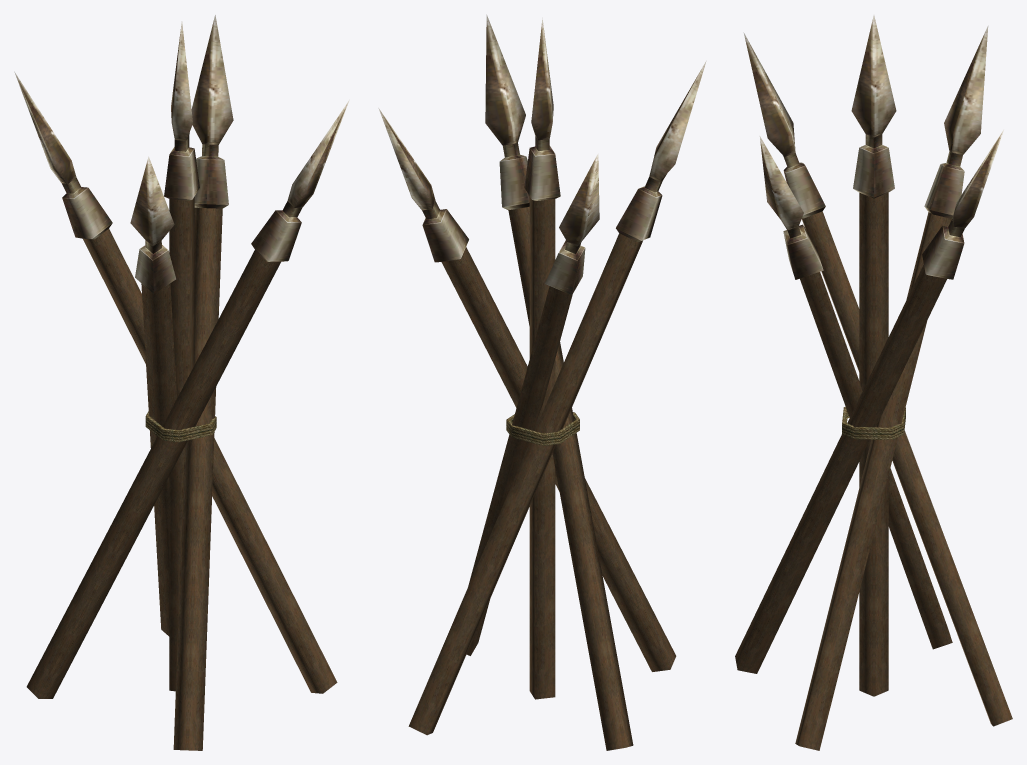
Rendered from environment_common_wuqijia_001_a.FBX.
The picture shows the model from 3 angles, left to right: view 1: azimuth 30°, elevation 25°; view 2: azimuth 150°, elevation 25°; view 3: azimuth 270°, elevation 25°; orthographic projection.
Parts seen in each view (by area): view 1: environment_common_wuqijia_001_a; view 2: environment_common_wuqijia_001_a; view 3: environment_common_wuqijia_001_a.
Boxes of the visible parts, bbox=[...] form: environment_common_wuqijia_001_a: bbox=[14, 15, 349, 750]; environment_common_wuqijia_001_a: bbox=[378, 14, 706, 750]; environment_common_wuqijia_001_a: bbox=[735, 15, 1012, 750].
Bounding box in the file's own units: 60.99 × 166 × 60.99.
